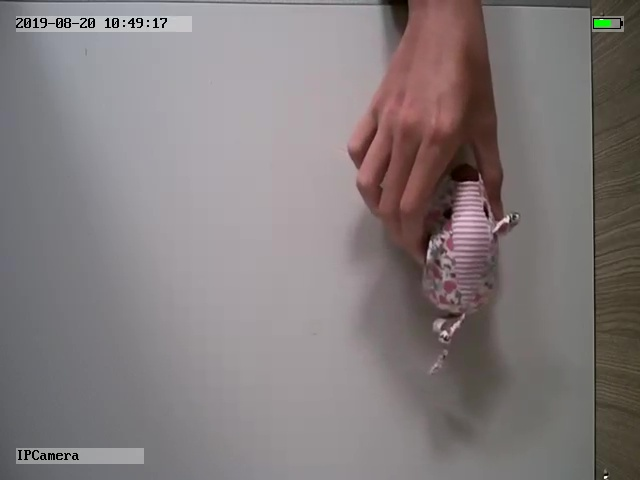pig: (421, 168, 520, 375)
